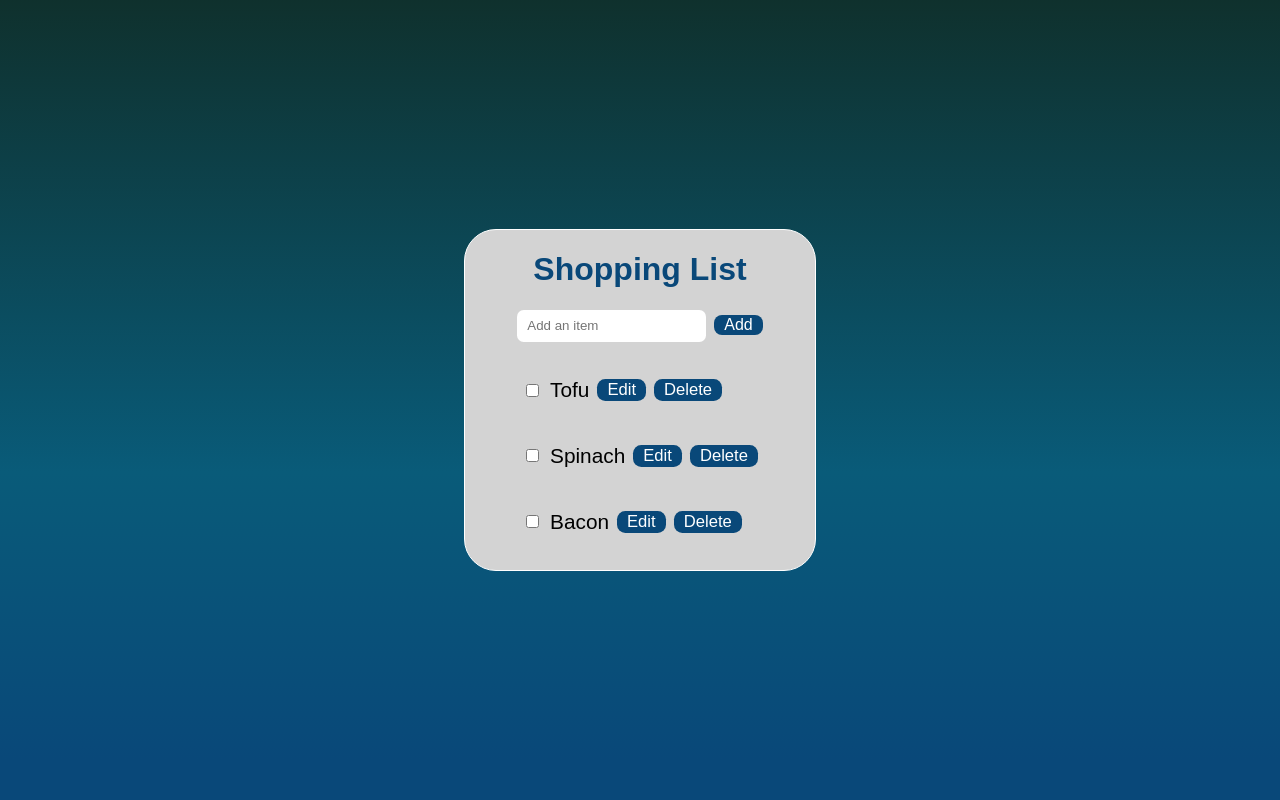
Test: should add an item to the list when add is pressed
In the field named "add-input": (612, 326) [517,310,706,342], type "Mochi"
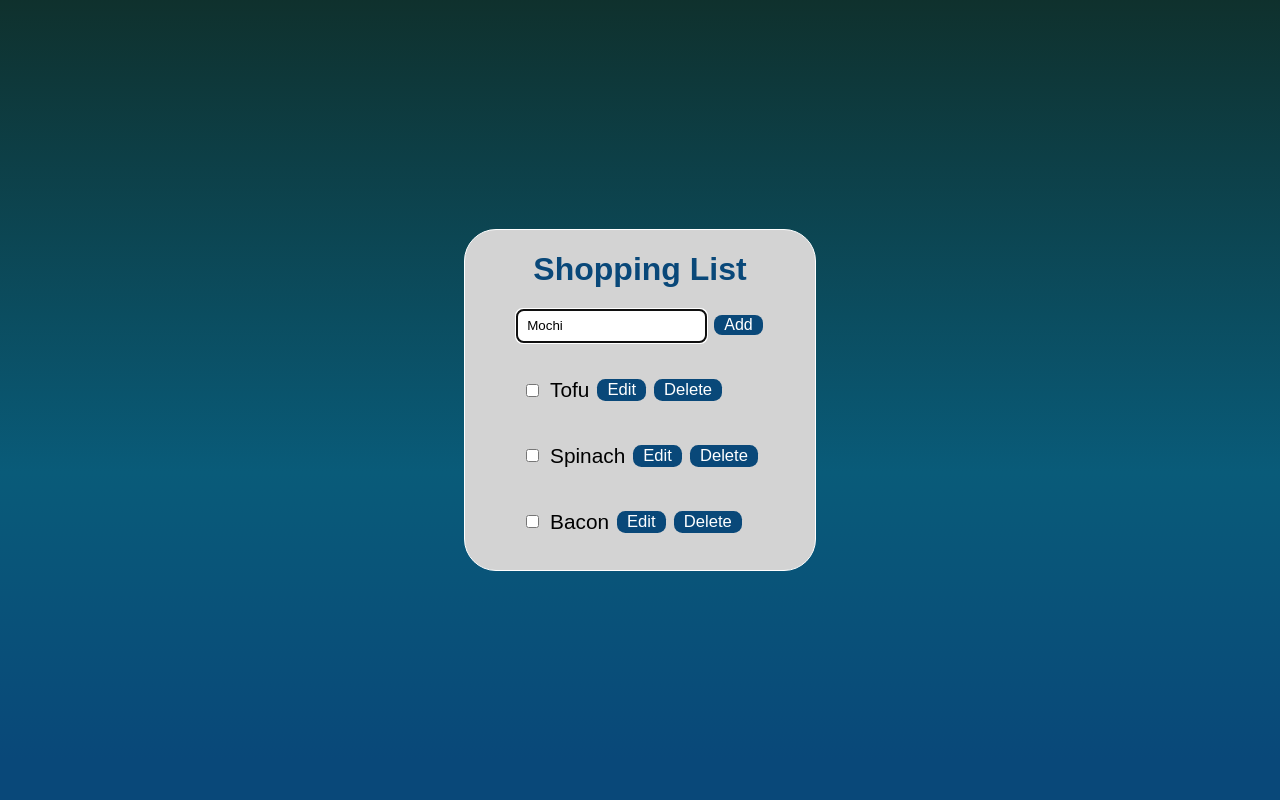
Click the button "Add": (739, 325) [714,315,763,335]
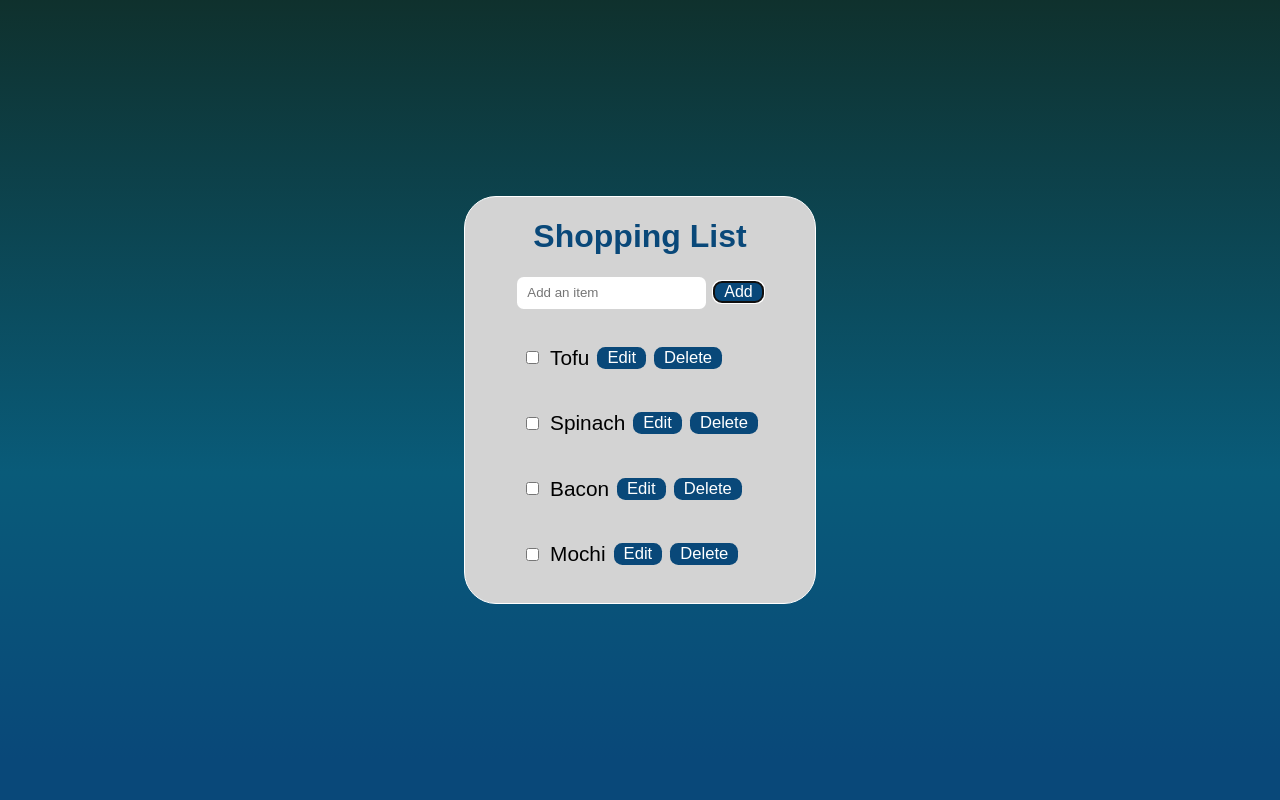
Result: the list shows "Mochi" at [550,542,606,565]
